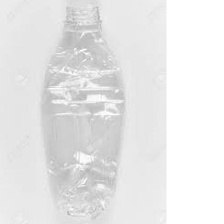bottle: (35, 3, 142, 221)
